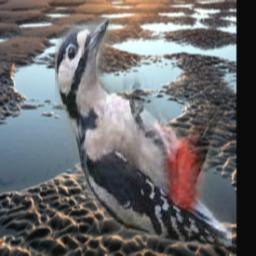Woodpecker: (55, 18, 232, 248)
